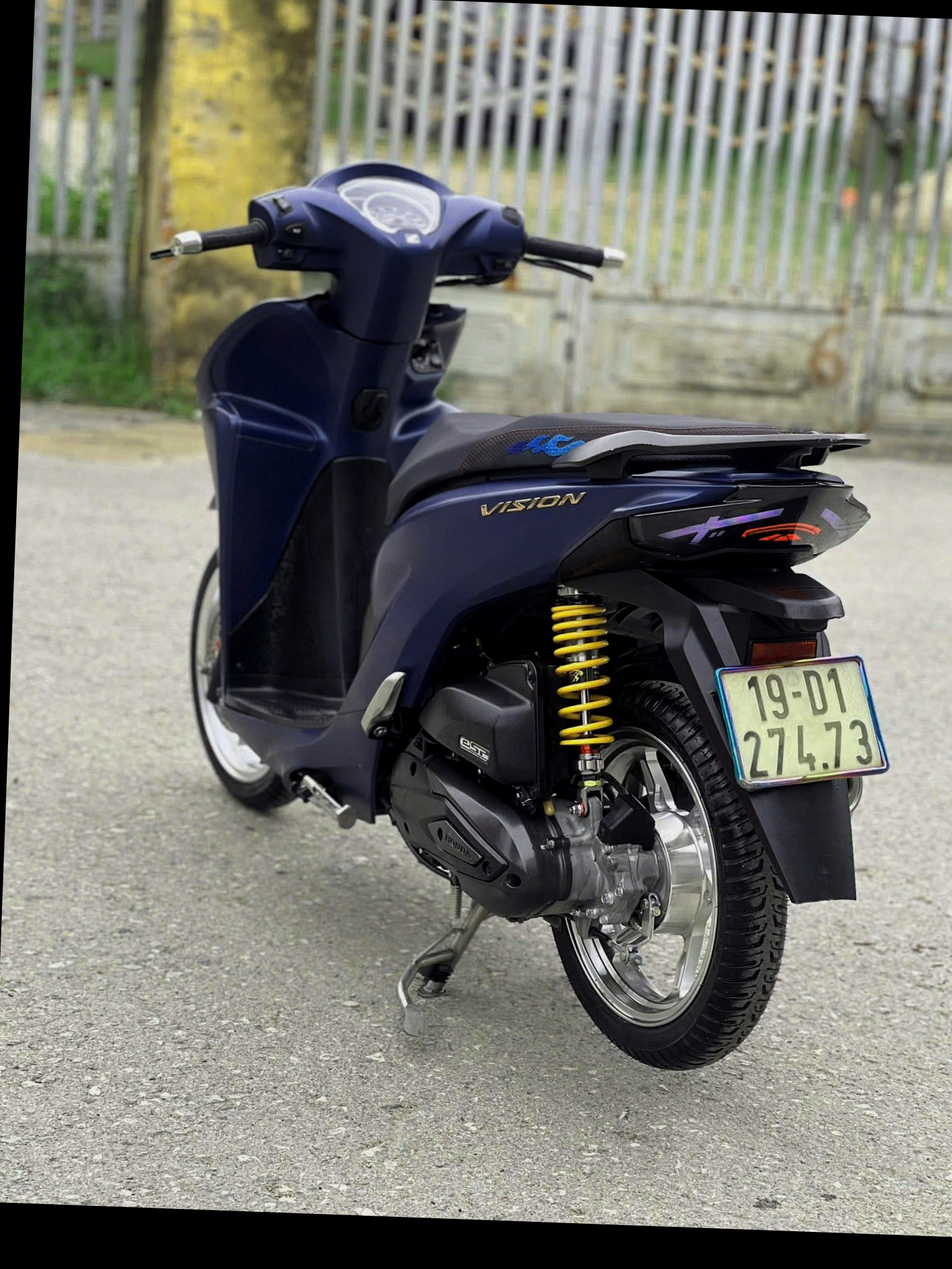Bien-so: (689, 662, 877, 816)
